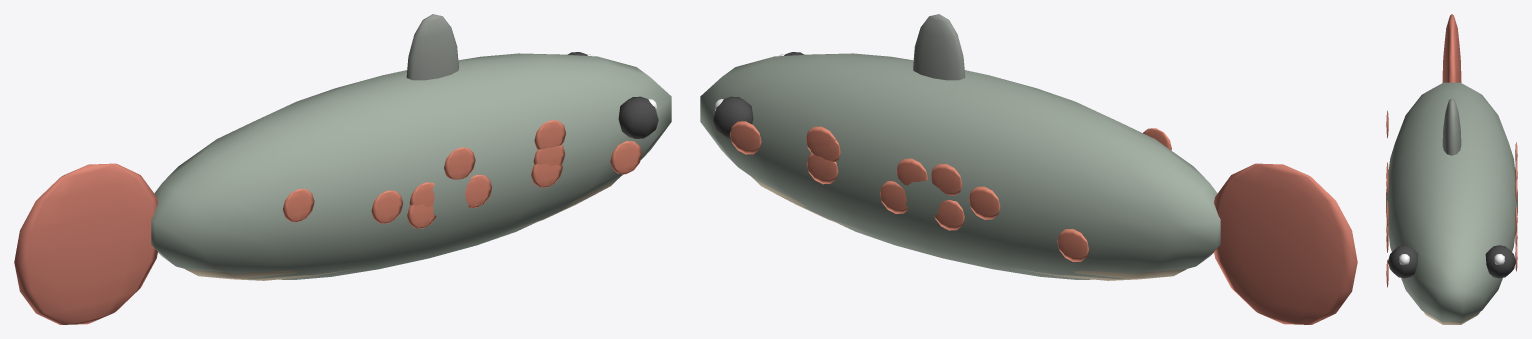
Rendered from arapaima.glb.
3 renders of one model, left to right at view 1: azimuth 30°, elevation 25°; view 2: azimuth 150°, elevation 25°; view 3: azimuth 270°, elevation 25°, orthographic. The views are drawn at different scales.
Parts seen in each view (by area): view 1: e, e.023; view 2: e, e.023; view 3: e, e.023.
Part boxes in pixels (box(x1,y1,x2,y2)): e: box(151, 14, 671, 280); e.023: box(14, 163, 157, 324); e: box(700, 14, 1220, 280); e.023: box(1214, 163, 1357, 324); e: box(1386, 82, 1517, 324); e.023: box(1442, 14, 1461, 82).
Size of the model in its own units: 1.47 by 0.5088 by 0.3326.
